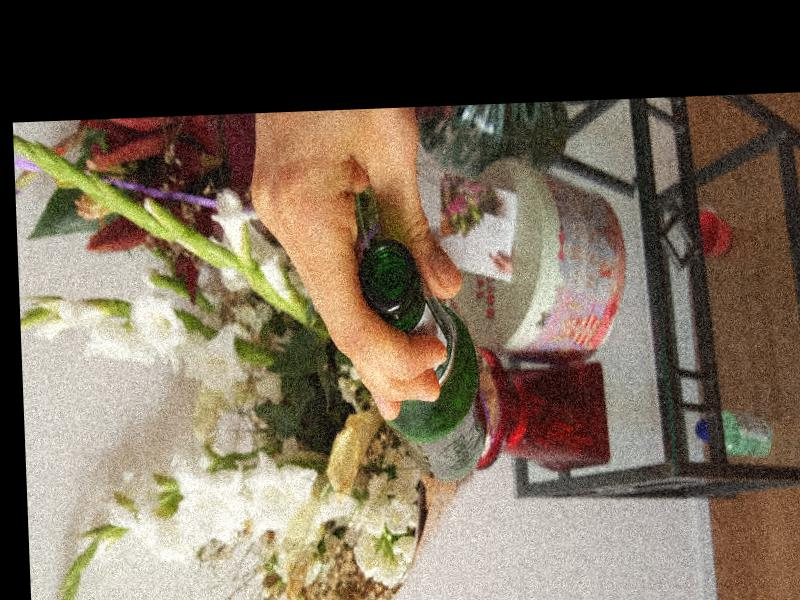Beer: (359, 236, 490, 485)
